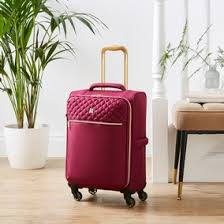suitcase: (64, 44, 149, 209)
